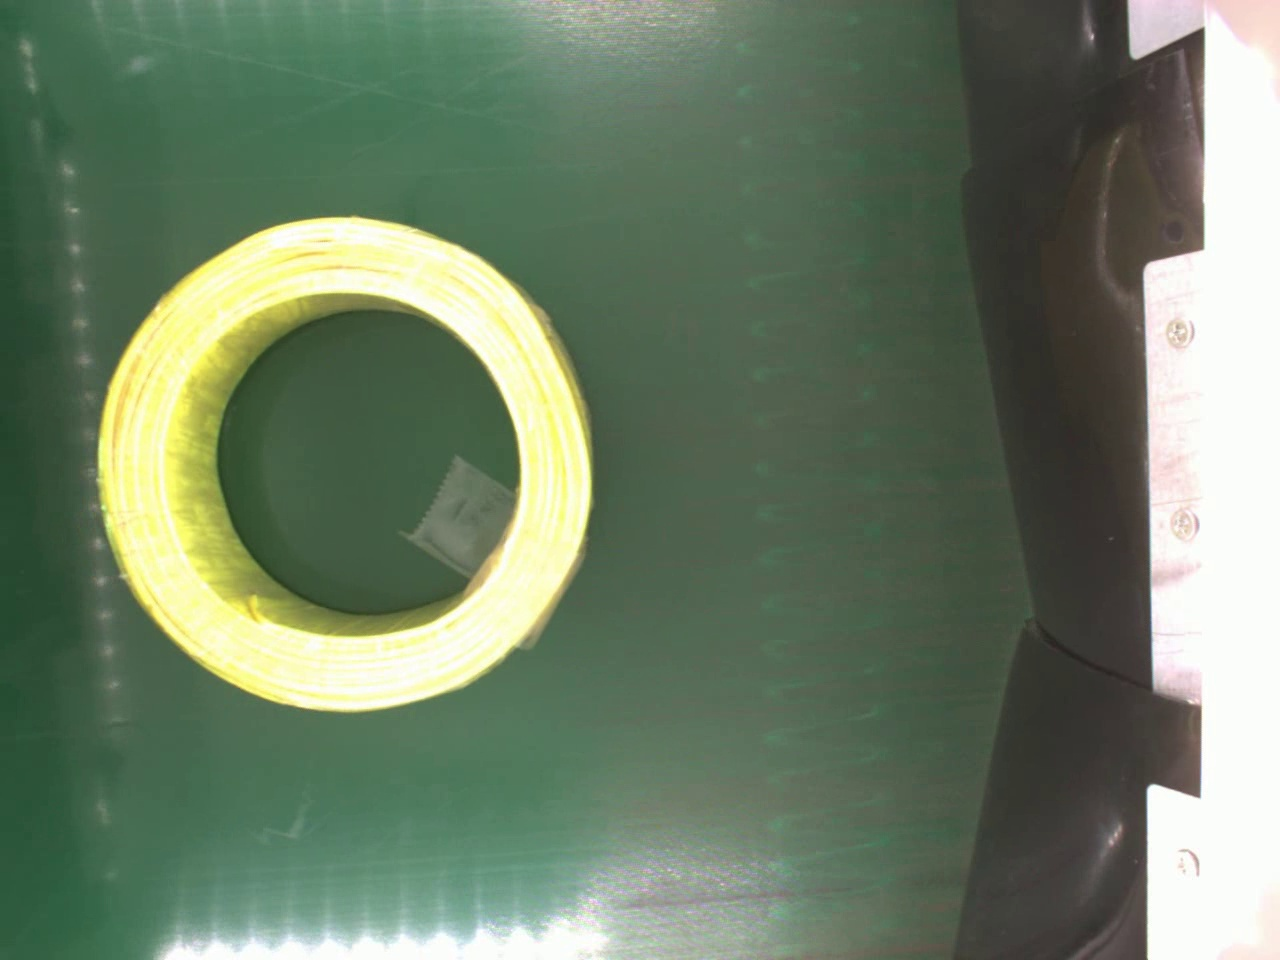yellow: (90, 206, 596, 709)
